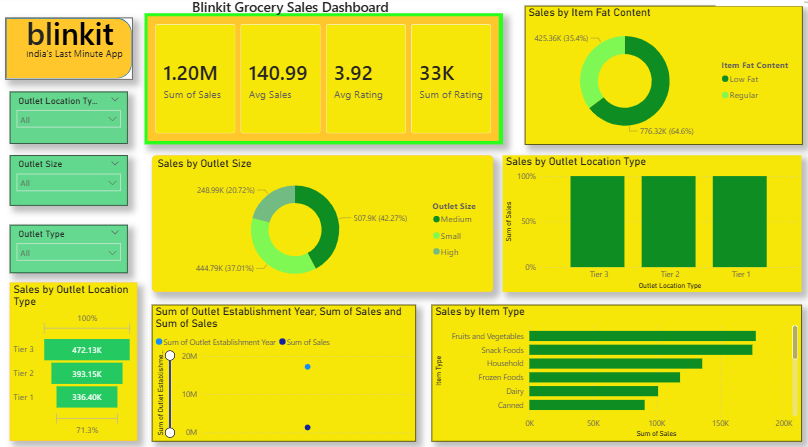

Layout of this report page (visuals, bound fields, positions):
{"tool":"powerbi","page":{"name":"Page 1","canvas":[1280,720],"ordinal":0},"visuals":[{"type":"textbox","box":[11.1,19.4,219.2,74.9],"z":0},{"type":"textbox","box":[11.1,77.7,219.2,36.1],"z":1000},{"type":"cardVisual","fields":{"Data":["Sum(BlinkIT Grocery Data.Sales)","BlinkIT Grocery Data.Avg Sales","BlinkIT Grocery Data.Avg Rating","Sum(BlinkIT Grocery Data.Rating)"]},"box":[230.3,30.3,563.6,206.1],"z":2000},{"type":"clusteredBarChart","title":"Sales by Item Type","fields":{"Category":["BlinkIT Grocery Data.Item Type"],"Y":["Sum(BlinkIT Grocery Data.Sales)"]},"box":[681.8,487.9,581.8,215.2],"z":3000},{"type":"donutChart","title":"Sales by Outlet Size","fields":{"Category":["BlinkIT Grocery Data.Outlet Size"],"Y":["Sum(BlinkIT Grocery Data.Sales)"]},"box":[242.4,254.5,536.4,215.2],"z":4000},{"type":"hundredPercentStackedColumnChart","title":"Sales by Outlet Location Type","fields":{"Category":["BlinkIT Grocery Data.Outlet Location Type"],"Y":["Sum(BlinkIT Grocery Data.Sales)"]},"box":[793.9,254.5,469.7,215.2],"z":5000},{"type":"donutChart","title":"Sales by Item Fat Content","fields":{"Category":["BlinkIT Grocery Data.Item Fat Content"],"Y":["Sum(BlinkIT Grocery Data.Sales)"]},"box":[827.3,18.2,436.4,218.2],"z":6000},{"type":"lineChart","fields":{"Y":["Sum(BlinkIT Grocery Data.Outlet Establishment Year)","Sum(BlinkIT Grocery Data.Sales)","Sum(BlinkIT Grocery Data.Sales)"]},"box":[242.4,487.9,415.2,215.2],"z":7000},{"type":"slicer","fields":{"Values":["BlinkIT Grocery Data.Outlet Location Type"]},"box":[18.2,154.5,184.8,81.8],"z":8000},{"type":"slicer","fields":{"Values":["BlinkIT Grocery Data.Outlet Size"]},"box":[18.2,254.5,184.8,78.8],"z":9000},{"type":"slicer","fields":{"Values":["BlinkIT Grocery Data.Outlet Type"]},"box":[18.2,363.6,184.8,75.8],"z":10000},{"type":"textbox","box":[1127.3,6.1,151.5,12.1],"z":11000},{"type":"funnel","title":"Sales by Outlet Location Type","fields":{"Y":["Sum(BlinkIT Grocery Data.Sales)"],"Category":["BlinkIT Grocery Data.Outlet Location Type"]},"box":[18.2,454.5,200,248.5],"z":12000},{"type":"shape","box":[12.1,36.4,200,97],"z":13000},{"type":"textbox","box":[39.4,24.2,160.6,75.8],"z":14000},{"type":"textbox","box":[39.4,78.8,178.8,36.4],"z":15000},{"type":"textbox","box":[300,0,421.2,57.6],"z":15001}]}

Visuals, with their boxes in screenshot pixels (x1, y1, x2, y2), scaled from the page's 1280x720 canvas onto the 808x447 screenshot:
textbox: BBox(7, 12, 145, 59)
textbox: BBox(7, 48, 145, 71)
cardVisual - Sum(BlinkIT Grocery Data.Sales) x BlinkIT Grocery Data.Avg Sales: BBox(145, 19, 501, 147)
"Sales by Item Type" clusteredBarChart: BBox(430, 303, 798, 437)
"Sales by Outlet Size" donutChart: BBox(153, 158, 492, 292)
"Sales by Outlet Location Type" hundredPercentStackedColumnChart: BBox(501, 158, 798, 292)
"Sales by Item Fat Content" donutChart: BBox(522, 11, 798, 147)
lineChart - Sum(BlinkIT Grocery Data.Outlet Establishment Year) x Sum(BlinkIT Grocery Data.Sales): BBox(153, 303, 415, 437)
slicer - BlinkIT Grocery Data.Outlet Location Type: BBox(11, 96, 128, 147)
slicer - BlinkIT Grocery Data.Outlet Size: BBox(11, 158, 128, 207)
slicer - BlinkIT Grocery Data.Outlet Type: BBox(11, 226, 128, 273)
textbox: BBox(712, 4, 807, 11)
"Sales by Outlet Location Type" funnel: BBox(11, 282, 138, 436)
shape: BBox(8, 23, 134, 83)
textbox: BBox(25, 15, 126, 62)
textbox: BBox(25, 49, 138, 72)
textbox: BBox(189, 0, 455, 36)
